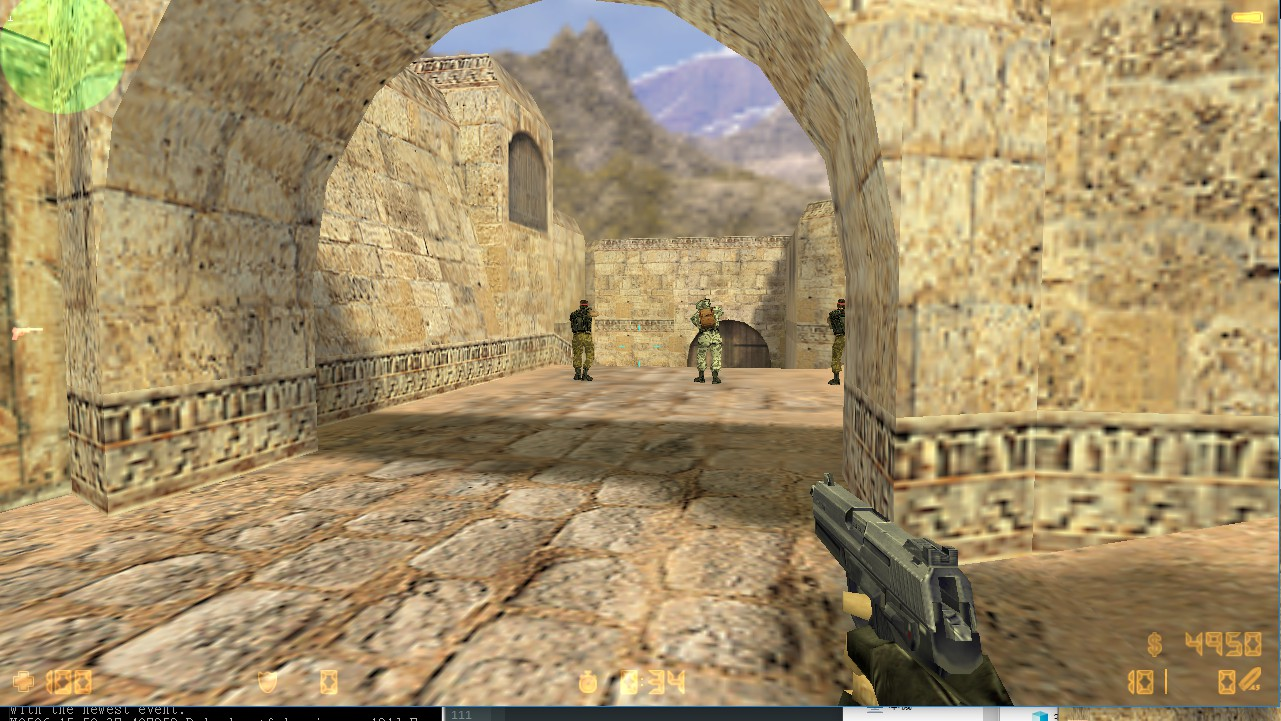person: (685, 296, 732, 391), (565, 294, 605, 391), (818, 299, 847, 382)
